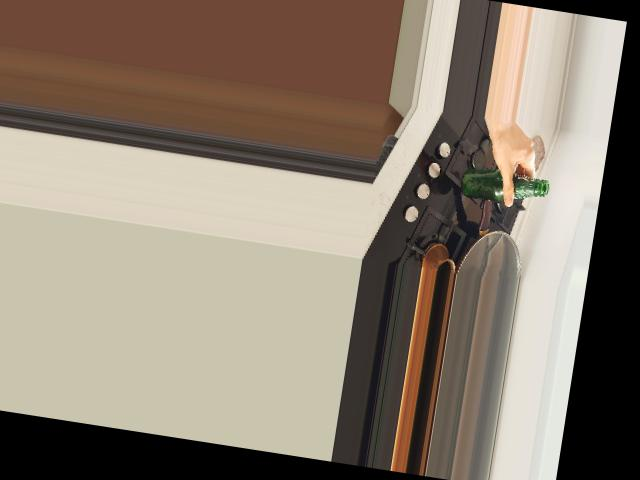beer: (458, 166, 549, 208)
